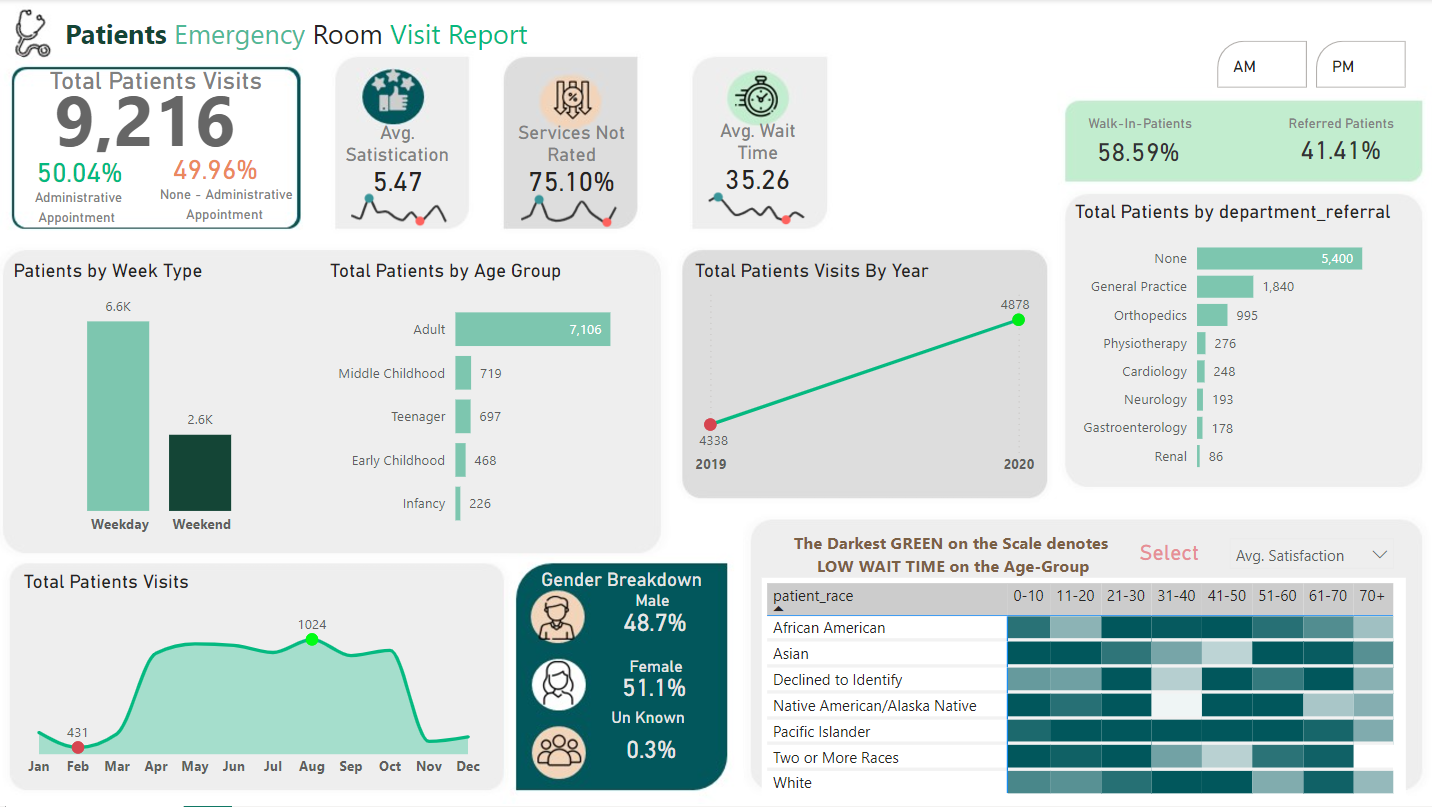

What the dashboard file says about the page in this screenshot:
{"tool":"powerbi","page":{"name":"Page 1","canvas":[1280,720],"ordinal":0},"visuals":[{"type":"card","fields":{"Values":["Calculations.Total Patients"]},"box":[30.2,66.4,201.5,74.8],"z":0},{"type":"card","fields":{"Values":["Calculations.NonAdministrative Schedule Percenatge"]},"box":[144.3,129.6,97.8,44],"z":1000},{"type":"card","fields":{"Values":["Calculations.Administrative Schedule Percenatge"]},"box":[22,130.8,100.3,45.2],"z":2000},{"type":"pivotTable","fields":{"Values":["Calculations.Average Satisfaction Score"],"Rows":["Patients Dataset.patient_race"],"Columns":["Patients Dataset.Age Buckets"]},"box":[680.2,515.4,573.3,199.3],"z":3000},{"type":"slicer","fields":{"Values":["Parameter.Parameter"]},"box":[1087,469.3,166.5,51.9],"z":4000},{"type":"clusteredBarChart","fields":{"Category":["Patients Dataset.Age Group"],"Y":["Calculations.Total Patients"]},"box":[290.8,231.6,293.2,254.6],"z":5000},{"type":"areaChart","title":"Total Patients Visits By month","fields":{"Category":["Date.Month"],"Y":["Calculations.Total Patients","Calculations.Values Max Point(Month)"]},"box":[18.1,509.1,419.8,193],"z":6000},{"type":"advancedSlicerVisual","fields":{"Values":["Patients Dataset.Moment"]},"box":[1080.9,32.3,179.2,52.3],"z":7000},{"type":"lineChart","title":"Total Patients Visits By Year","fields":{"Category":["Date.Year"],"Y":["Calculations.Total Patients","Calculations.Values Max Point(Year)"]},"box":[615.3,231.6,312.5,201.5],"z":8000},{"type":"barChart","fields":{"Y":["Calculations.Total Patients"],"Category":["Patients Dataset.department_referral"]},"box":[954.3,179.8,299.2,253.4],"z":9000},{"type":"card","fields":{"Values":["Calculations.% Referred Patients"]},"box":[1138.9,111,114.6,44.6],"z":10000},{"type":"card","fields":{"Values":["Calculations.% Un Referred Patients"]},"box":[954.3,115.8,123.1,39.8],"z":11000},{"type":"card","fields":{"Values":["Calculations.HeatMap Caption"]},"box":[679.2,459.7,343.8,68.8],"z":12000},{"type":"textbox","box":[18.3,161.4,107.6,46.5],"z":13000},{"type":"textbox","box":[133.3,159,139.4,57.5],"z":14000},{"type":"card","title":"Avg. Satistication","fields":{"Values":["Calculations.Average Satisfaction Score"]},"box":[299.2,108.6,112.2,67.6],"z":15000},{"type":"card","title":"Services Not Rated","fields":{"Values":["Calculations.% No Rating"]},"box":[454.8,108.6,111,67.6],"z":16000},{"type":"card","title":"Avg. Wait Time","fields":{"Values":["Calculations.Average Wait time"]},"box":[621.3,107.4,111,68.8],"z":17000},{"type":"textbox","box":[947.1,95.5,139.4,34.2],"z":18000},{"type":"textbox","box":[1126.8,95.5,139.4,30.6],"z":19000},{"type":"columnChart","title":"Patients by Week Type","fields":{"Y":["Calculations.Total Patients"],"Category":["Date.WeekType"]},"box":[8.4,231.6,272.7,254.6],"z":20000},{"type":"card","fields":{"Values":["Calculations.% Female Visit"]},"box":[539.3,531.1,92.9,47.7],"z":21000},{"type":"card","fields":{"Values":["Calculations.% Male Visit"]},"box":[538.1,591,92.9,42.8],"z":22000},{"type":"card","fields":{"Values":["Calculations.% UnKnown Visit"]},"box":[535.7,644.8,92.9,46.5],"z":23000},{"type":"textbox","box":[30.2,55.5,220.8,57.9],"z":24000},{"type":"PBI_CV_25997FEB_F466_44FA_B562_AC4063283C4C","fields":{"axis":["Date.Month"],"measure":["Calculations.Average Satisfaction Score"]},"box":[296.8,160.5,123.1,48.3],"z":25000},{"type":"PBI_CV_25997FEB_F466_44FA_B562_AC4063283C4C","fields":{"axis":["Date.Month"],"measure":["Calculations.% No Rating"]},"box":[448.8,161.7,123.1,48.3],"z":26000},{"type":"PBI_CV_25997FEB_F466_44FA_B562_AC4063283C4C","fields":{"axis":["Date.Month"],"measure":["Calculations.Average Wait time"]},"box":[615.3,159.3,123.1,48.3],"z":27000},{"type":"textbox","box":[454.8,501.9,200.3,37.4],"z":28000},{"type":"textbox","box":[546.5,521.2,72.4,36.2],"z":29000},{"type":"textbox","box":[550.1,580.3,72.4,36.2],"z":30000},{"type":"textbox","box":[535.7,626.1,86.9,36.2],"z":31000},{"type":"textbox","box":[1000.1,477.8,86.9,36.2],"z":32000},{"type":"textbox","box":[41.2,10,448.6,56.8],"z":33000}]}

Visuals, with their boxes in screenshot pixels (x1, y1, x2, y2), scaled from the page's 1280x720 canvas onto the 1432x807 screenshot:
card - Calculations.Total Patients: region(34, 74, 259, 158)
card - Calculations.NonAdministrative Schedule Percenatge: region(161, 145, 271, 195)
card - Calculations.Administrative Schedule Percenatge: region(25, 147, 137, 197)
pivotTable - Calculations.Average Satisfaction Score x Patients Dataset.patient_race: region(761, 578, 1402, 801)
slicer - Parameter.Parameter: region(1216, 526, 1402, 584)
clusteredBarChart - Patients Dataset.Age Group x Calculations.Total Patients: region(325, 260, 653, 545)
"Total Patients Visits By month" areaChart: region(20, 571, 490, 787)
advancedSlicerVisual - Patients Dataset.Moment: region(1209, 36, 1410, 95)
"Total Patients Visits By Year" lineChart: region(688, 260, 1038, 485)
barChart - Calculations.Total Patients x Patients Dataset.department_referral: region(1068, 202, 1402, 486)
card - Calculations.% Referred Patients: region(1274, 124, 1402, 174)
card - Calculations.% Un Referred Patients: region(1068, 130, 1205, 174)
card - Calculations.HeatMap Caption: region(760, 515, 1144, 592)
textbox: region(20, 181, 141, 233)
textbox: region(149, 178, 305, 243)
"Avg. Satistication" card: region(335, 122, 460, 197)
"Services Not Rated" card: region(509, 122, 633, 197)
"Avg. Wait Time" card: region(695, 120, 819, 197)
textbox: region(1060, 107, 1216, 145)
textbox: region(1261, 107, 1417, 141)
"Patients by Week Type" columnChart: region(9, 260, 314, 545)
card - Calculations.% Female Visit: region(603, 595, 707, 649)
card - Calculations.% Male Visit: region(602, 662, 706, 710)
card - Calculations.% UnKnown Visit: region(599, 723, 703, 775)
textbox: region(34, 62, 281, 127)
PBI_CV_25997FEB_F466_44FA_B562_AC4063283C4C - Date.Month x Calculations.Average Satisfaction Score: region(332, 180, 470, 234)
PBI_CV_25997FEB_F466_44FA_B562_AC4063283C4C - Date.Month x Calculations.% No Rating: region(502, 181, 640, 235)
PBI_CV_25997FEB_F466_44FA_B562_AC4063283C4C - Date.Month x Calculations.Average Wait time: region(688, 179, 826, 233)
textbox: region(509, 563, 733, 604)
textbox: region(611, 584, 692, 625)
textbox: region(615, 650, 696, 691)
textbox: region(599, 702, 697, 742)
textbox: region(1119, 536, 1216, 576)
textbox: region(46, 11, 548, 75)
